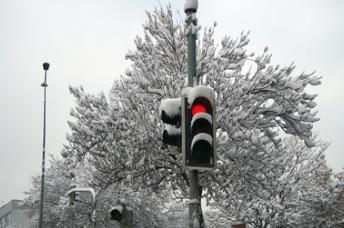red_light: (182, 96, 217, 170)
